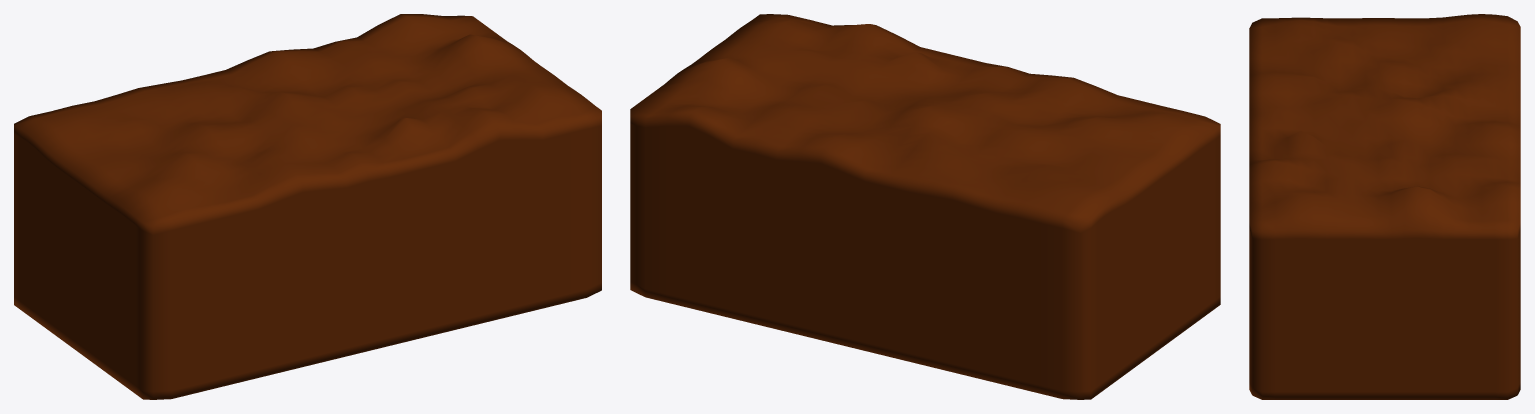
The model's file is chocolate_lleno.fbx.
The picture shows the model from 3 angles, left to right: view 1: azimuth 30°, elevation 25°; view 2: azimuth 150°, elevation 25°; view 3: azimuth 270°, elevation 25°; orthographic projection. The views are drawn at different scales.
Parts seen in each view (by area): view 1: Chocolate_Lleno; view 2: Chocolate_Lleno; view 3: Chocolate_Lleno.
Boxes of the visible parts, x1,y1,x2,y2 form: Chocolate_Lleno: [14, 14, 601, 399]; Chocolate_Lleno: [630, 14, 1220, 399]; Chocolate_Lleno: [1249, 14, 1520, 399].
Bounding box in the file's own units: 351 × 148 × 189.
